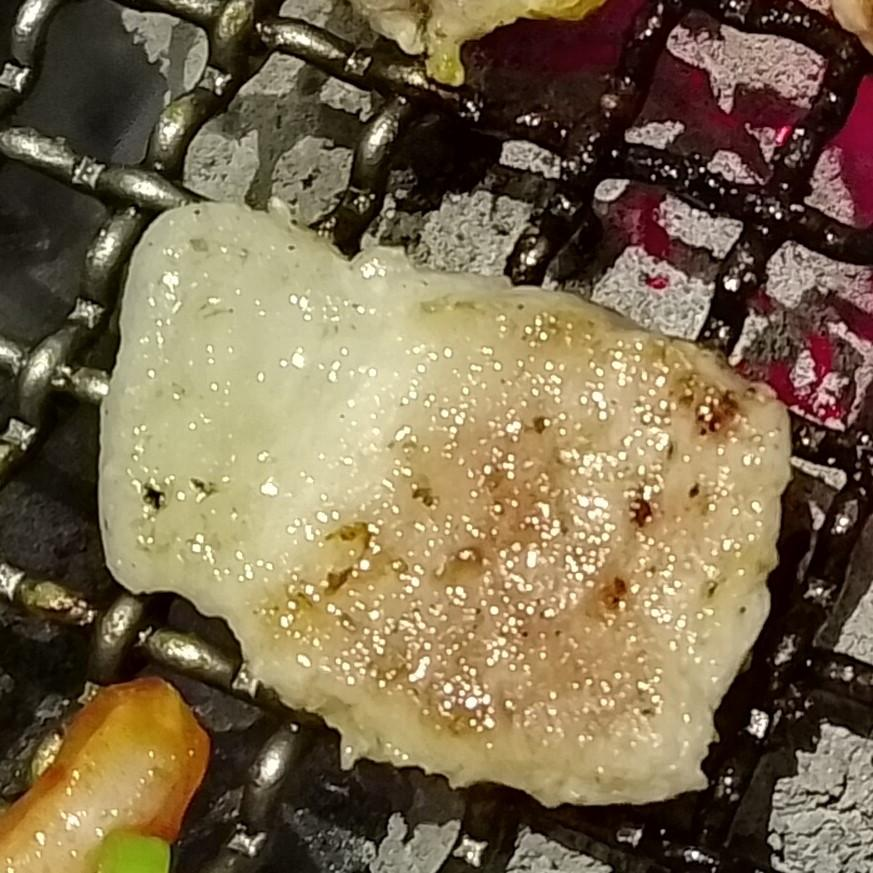Well-Cooked: (97, 201, 792, 811)
